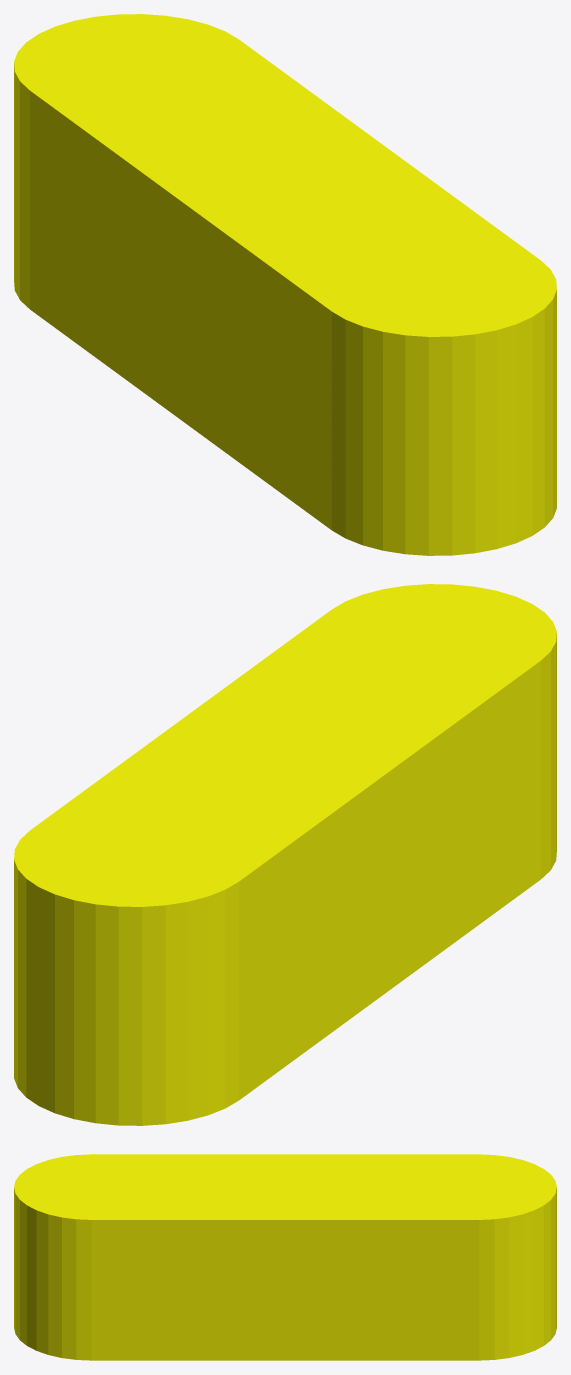
The picture shows the model from 3 angles, top to bottom: view 1: azimuth 30°, elevation 25°; view 2: azimuth 150°, elevation 25°; view 3: azimuth 270°, elevation 25°; orthographic projection. The views are drawn at different scales.
Visible parts, largest first — view 1: tmp_export_Cylinder.017; view 2: tmp_export_Cylinder.017; view 3: tmp_export_Cylinder.017.
Part boxes in pixels (x1,y1,x2,y2): tmp_export_Cylinder.017: (14, 14, 556, 555); tmp_export_Cylinder.017: (14, 584, 556, 1125); tmp_export_Cylinder.017: (14, 1154, 556, 1360).
Size of the model in its own units: 2 by 7 by 2.
